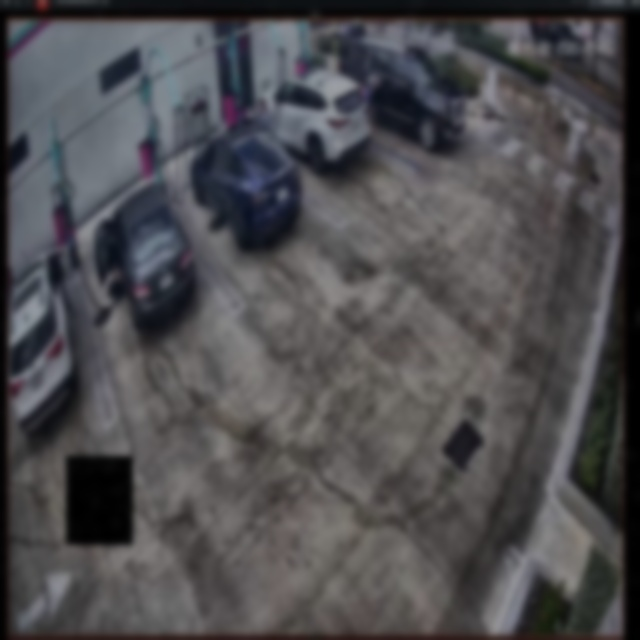Car: (95, 181, 195, 327), (189, 122, 300, 246), (256, 69, 369, 169)
